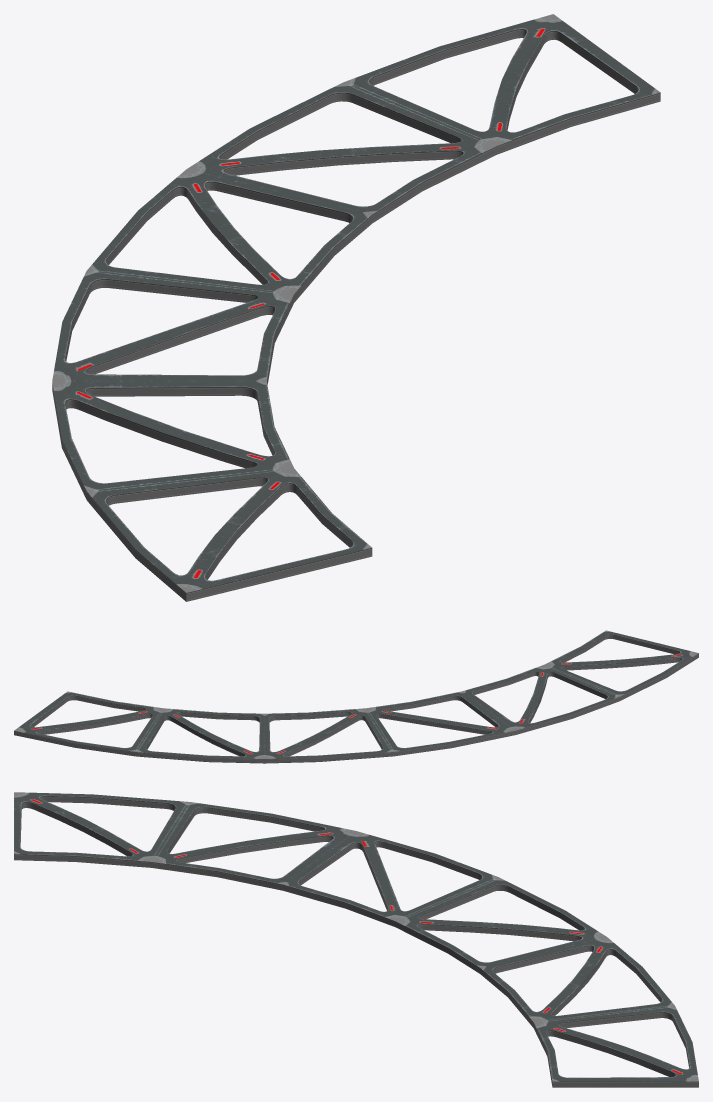
Rendered from Column_MetalSupport_Curve.glb.
3 renders of one model, top to bottom at view 1: azimuth 30°, elevation 25°; view 2: azimuth 150°, elevation 25°; view 3: azimuth 270°, elevation 25°, orthographic. The views are drawn at different scales.
Parts seen in each view (by area): view 1: Column_MetalSupport_Curve; view 2: Column_MetalSupport_Curve; view 3: Column_MetalSupport_Curve.
Part boxes in pixels (bbox=[...]): Column_MetalSupport_Curve: bbox=[52, 14, 660, 601]; Column_MetalSupport_Curve: bbox=[14, 630, 698, 763]; Column_MetalSupport_Curve: bbox=[14, 792, 698, 1087].
Size of the model in its own units: 4.47 by 0.0442 by 4.47.
2 materials, 2 textured.
